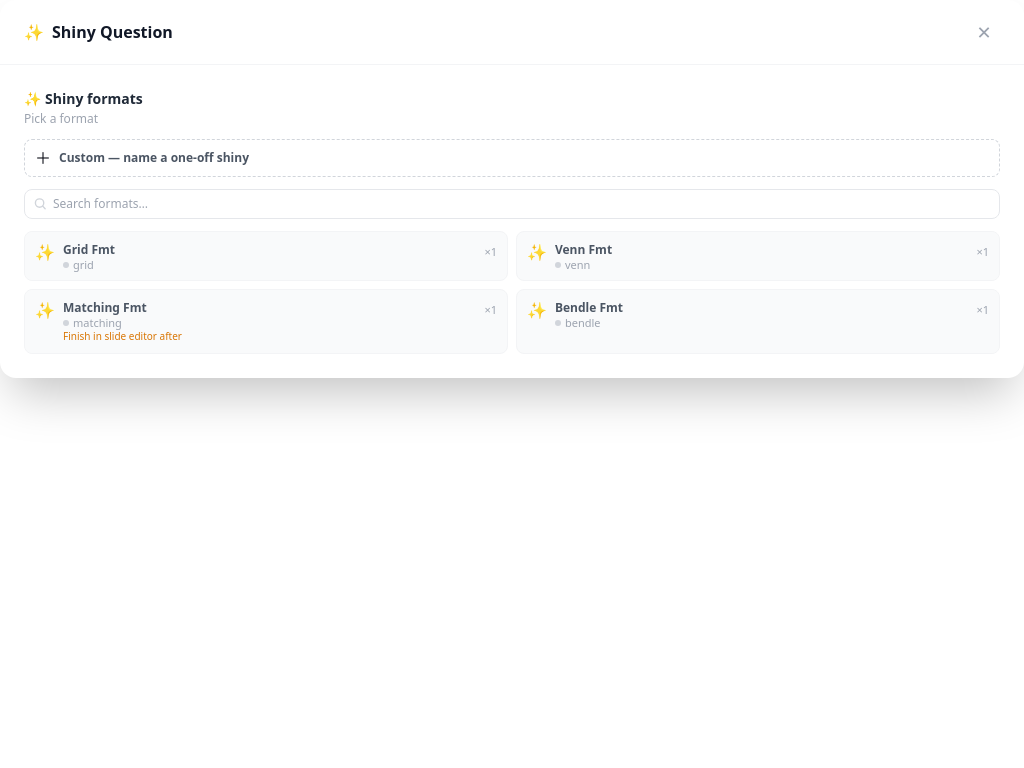
it: AddSlideWizard shiny details — registry wiring › renders venn's own two count controls and no grid controls
Click the button "✨ Venn Fmt venn ×1": (584, 250) [516,231,1000,281]
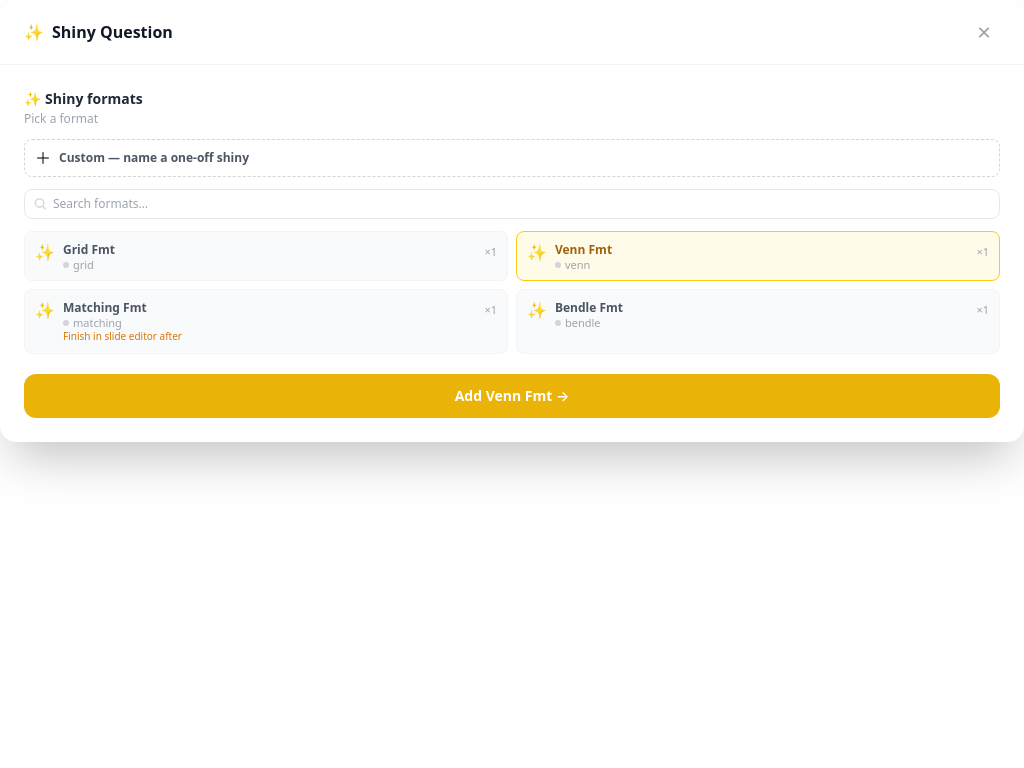
Click the button "Add Venn Fmt →": (512, 396) [24,374,1000,418]
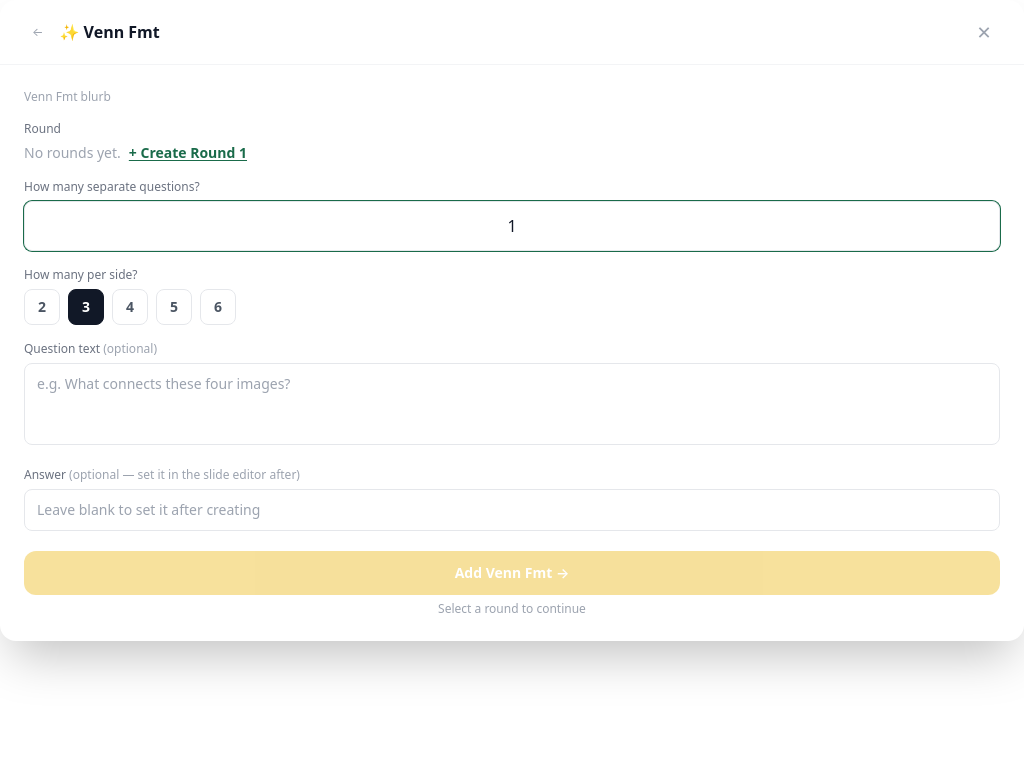
Check: the text "How many separate questions?" is shown, box [24,178,200,195]
Check: the text "How many per side?" is shown, box [24,266,138,283]
